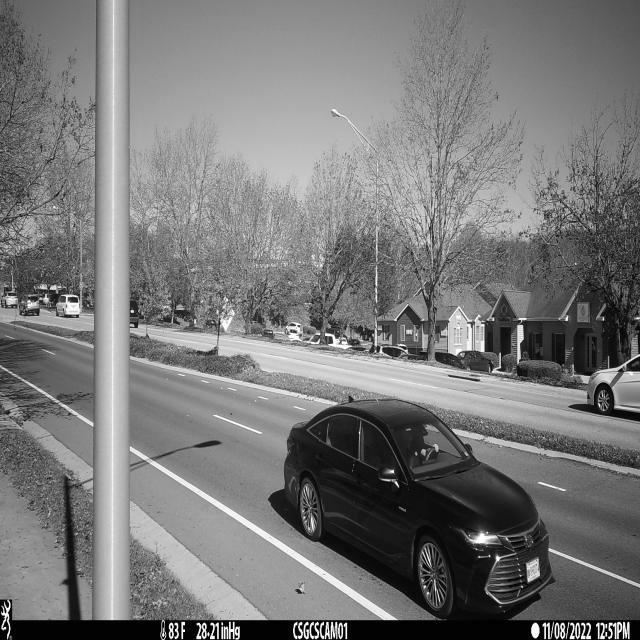Sedan: (284, 397, 555, 618)
